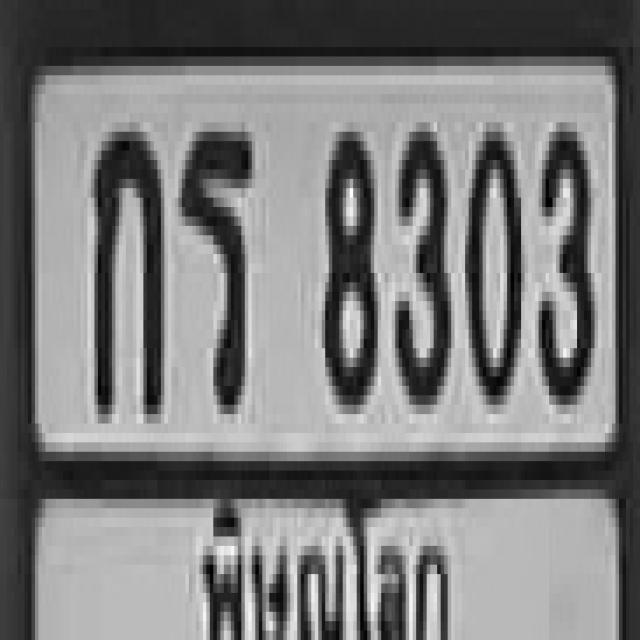0: (465, 122, 518, 396)
10GorGai: (91, 122, 161, 405)
3: (535, 113, 591, 395), (392, 122, 448, 396)
44RorRuea: (178, 122, 252, 405)
8: (322, 122, 374, 396)
Phitsanulok: (191, 464, 459, 640)
